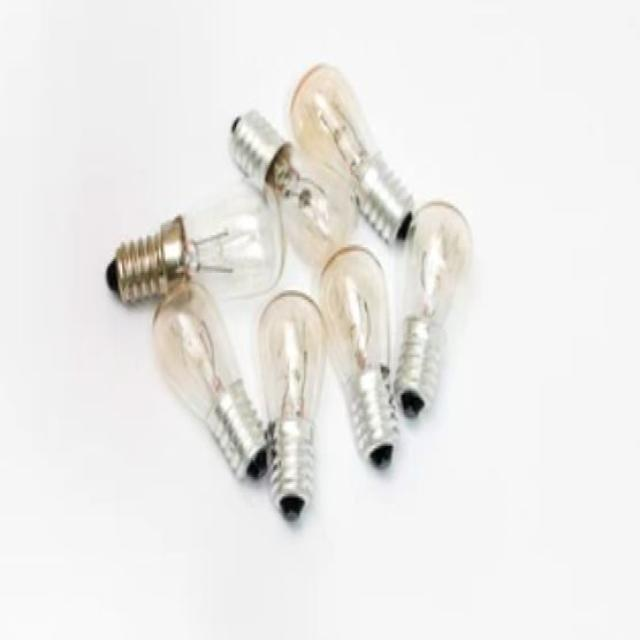electronic: (105, 60, 473, 523), (150, 278, 270, 482), (288, 60, 416, 244), (105, 178, 284, 306), (228, 106, 358, 271), (316, 244, 400, 468), (392, 197, 472, 417), (253, 288, 327, 522)
